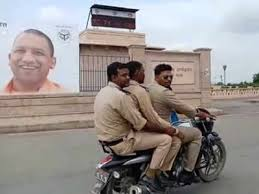no_helmet: (8, 32, 56, 87), (111, 68, 132, 87), (158, 70, 174, 88)
